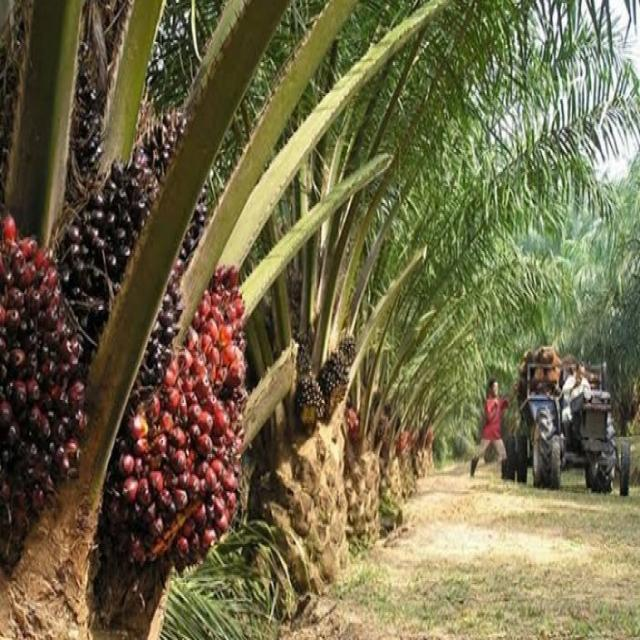FFB: (109, 265, 246, 574), (49, 161, 187, 421), (0, 215, 86, 572), (132, 117, 206, 267), (294, 376, 324, 438), (318, 363, 345, 423), (294, 333, 312, 380), (337, 330, 357, 372)
